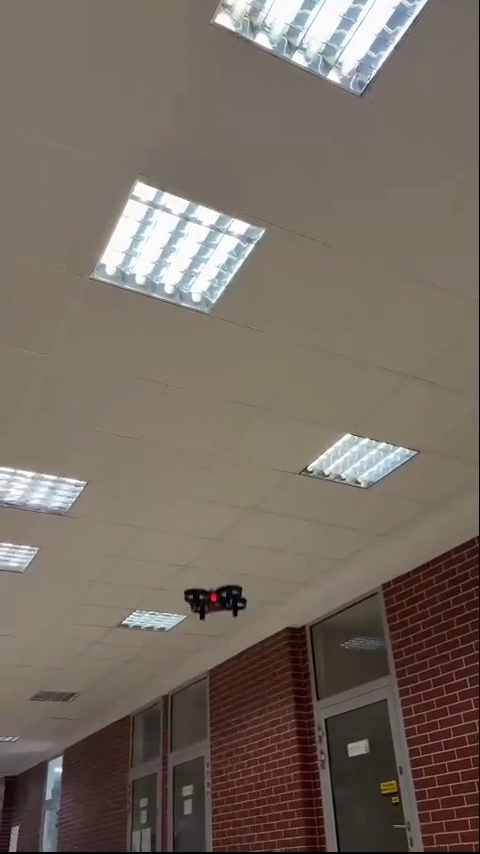drone: (177, 589, 249, 622)
